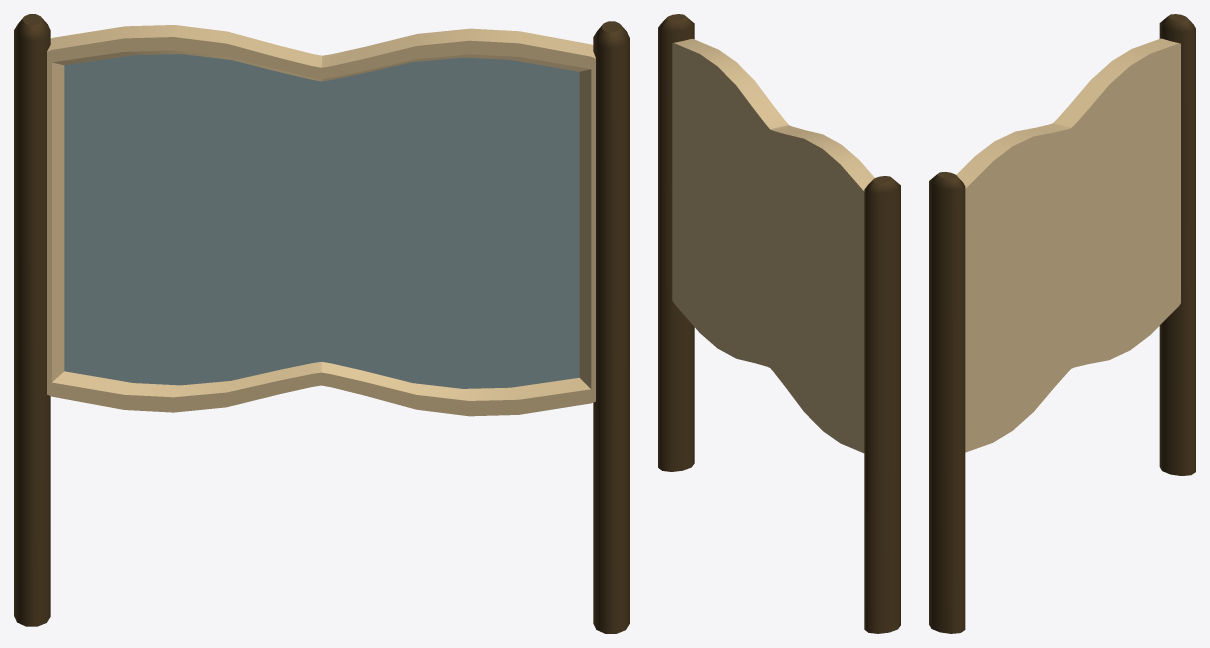
File: board4.fbx
The picture shows the model from 3 angles, left to right: view 1: azimuth 30°, elevation 25°; view 2: azimuth 150°, elevation 25°; view 3: azimuth 270°, elevation 25°; orthographic projection. The views are drawn at different scales.
Visible parts, largest first — view 1: board3, board2; view 2: board3, board2; view 3: board3, board2.
Boxes of the visible parts, box(x1,y1,x2,y2) form: board3: box(47, 25, 595, 416); board2: box(14, 14, 629, 633); board3: box(672, 39, 874, 453); board2: box(658, 14, 900, 633); board3: box(956, 38, 1180, 452); board2: box(929, 14, 1195, 633).
Size of the model in its own units: 4.02 by 4.96 by 2.65.
